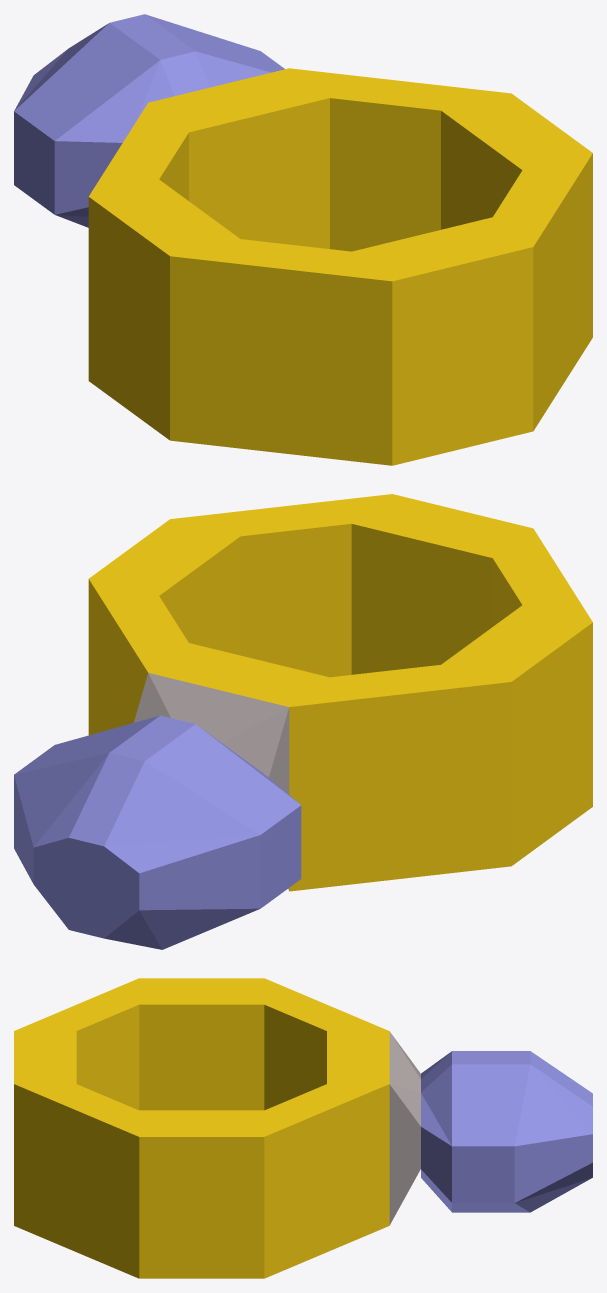
File: slayer-ring.gltf
3 views of the same model, one above another, from view 1: azimuth 30°, elevation 25°; view 2: azimuth 150°, elevation 25°; view 3: azimuth 270°, elevation 25° (orthographic). The views are drawn at different scales.
Bounding box in the file's own units: 24 × 10 × 37.
2 materials, 2 textured.
